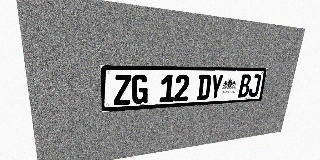1: (160, 74, 176, 102)
2: (174, 74, 190, 102)
B: (238, 74, 252, 98)
D: (197, 74, 212, 100)
G: (132, 75, 148, 104)
J: (248, 74, 262, 97)
Y: (209, 74, 224, 99)
Z: (114, 75, 131, 105)
